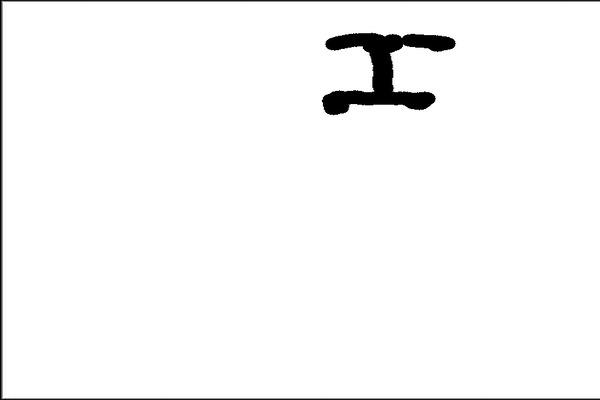i: (312, 26, 456, 118)
